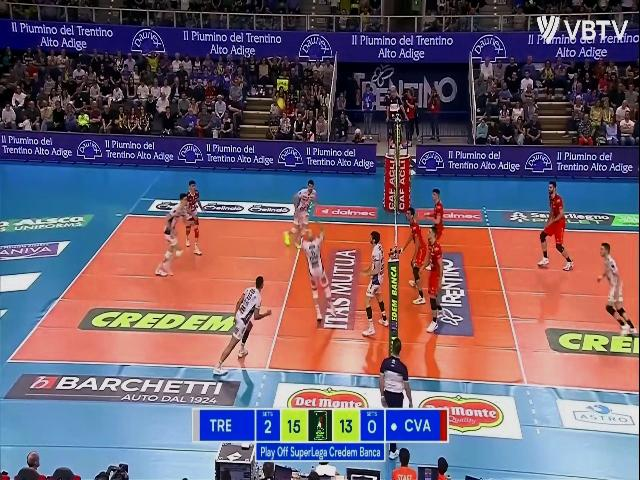volleyball court: (6, 212, 638, 390)
